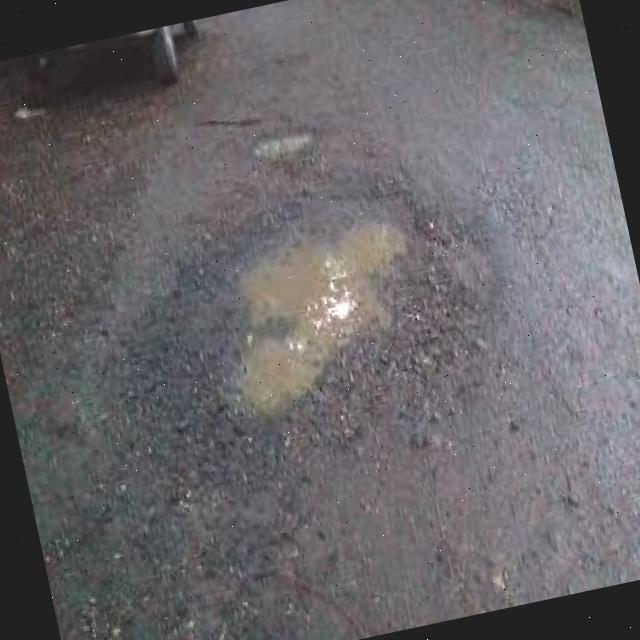stagnation: (183, 182, 448, 432), (240, 110, 338, 179)
